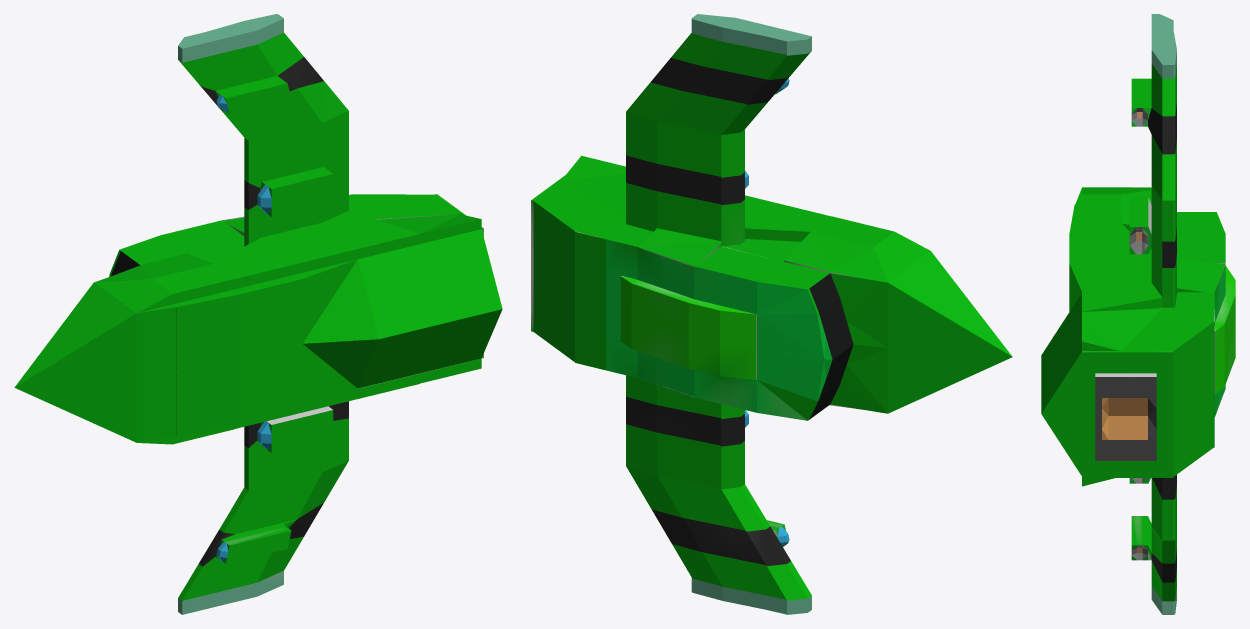
The model's file is Bolt.dae.
3 views of the same model, side by side, from view 1: azimuth 30°, elevation 25°; view 2: azimuth 150°, elevation 25°; view 3: azimuth 270°, elevation 25° (orthographic). The views are drawn at different scales.
Parts seen in each view (by area): view 1: Cube; view 2: Cube; view 3: Cube.
Boxes of the visible parts, bbox=[...] form: Cube: bbox=[14, 14, 502, 614]; Cube: bbox=[531, 14, 1012, 614]; Cube: bbox=[1041, 14, 1235, 614].
Bounding box in the file's own units: 7.39 × 2.8 × 8.75.
